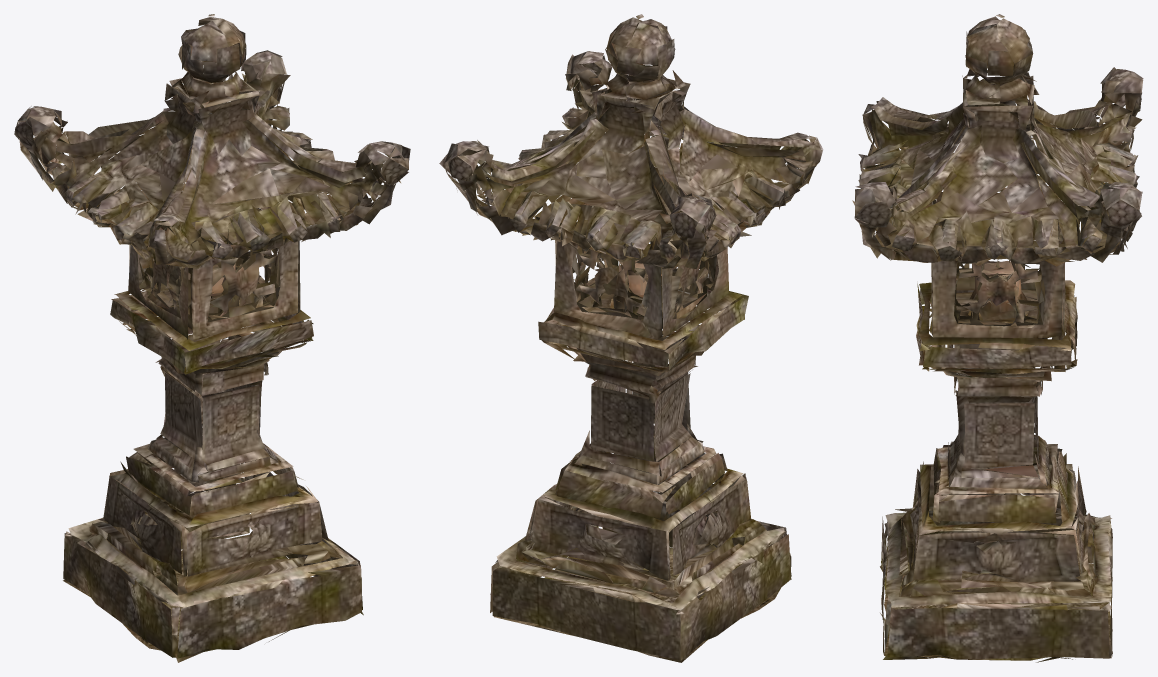
The model's file is lanterna_lod1.glb.
3 renders of one model, left to right at view 1: azimuth 30°, elevation 25°; view 2: azimuth 150°, elevation 25°; view 3: azimuth 270°, elevation 25°, orthographic. The views are drawn at different scales.
Visible parts, largest first — view 1: lanterna; view 2: lanterna; view 3: lanterna.
Part boxes in pixels (<box>): lanterna: <box>14,14,410,662</box>; lanterna: <box>439,14,823,662</box>; lanterna: <box>852,14,1143,662</box>.
Bounding box in the file's own units: 0.7588 × 1.61 × 0.7083.
Materials: 1 (1 with a texture image).
